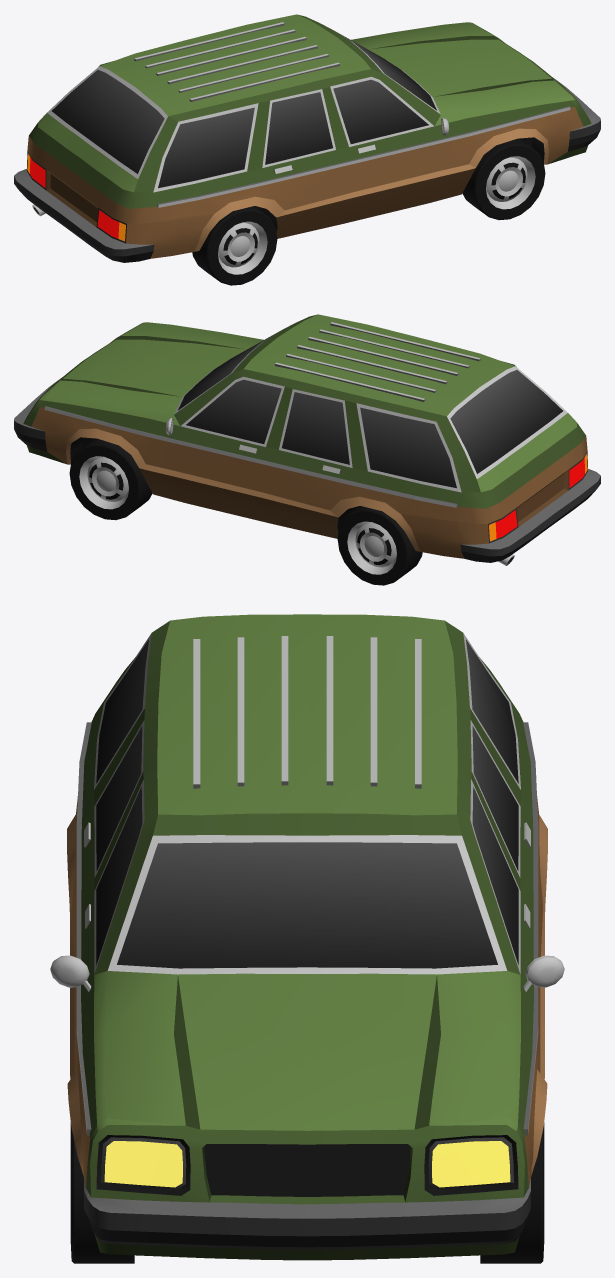
Rendered from Car_224.glb.
3 views of the same model, one above another, from view 1: azimuth 30°, elevation 25°; view 2: azimuth 150°, elevation 25°; view 3: azimuth 270°, elevation 25° (orthographic). The views are drawn at different scales.
Parts seen in each view (by area): view 1: Car_224, wheel_1_Car_224_Wheel_1R, wheel_3_Car_224_Wheel_2R; view 2: Car_224, wheel_0_Car_224_Wheel_1L, wheel_2_Car_224_Wheel_2L; view 3: Car_224, wheel_0_Car_224_Wheel_1L, wheel_1_Car_224_Wheel_1R.
Boxes of the visible parts, bbox=[...] form: Car_224: bbox=[14, 14, 600, 262]; wheel_1_Car_224_Wheel_1R: bbox=[462, 138, 545, 220]; wheel_3_Car_224_Wheel_2R: bbox=[192, 206, 277, 285]; Car_224: bbox=[14, 314, 600, 565]; wheel_0_Car_224_Wheel_1L: bbox=[69, 438, 152, 520]; wheel_2_Car_224_Wheel_2L: bbox=[337, 506, 422, 585]; Car_224: bbox=[50, 614, 564, 1260]; wheel_0_Car_224_Wheel_1L: bbox=[480, 1123, 544, 1263]; wheel_1_Car_224_Wheel_1R: bbox=[70, 1123, 134, 1263].
Bounding box in the file's own units: 4.32 × 1.4 × 1.93.
2 materials, 2 textured.
